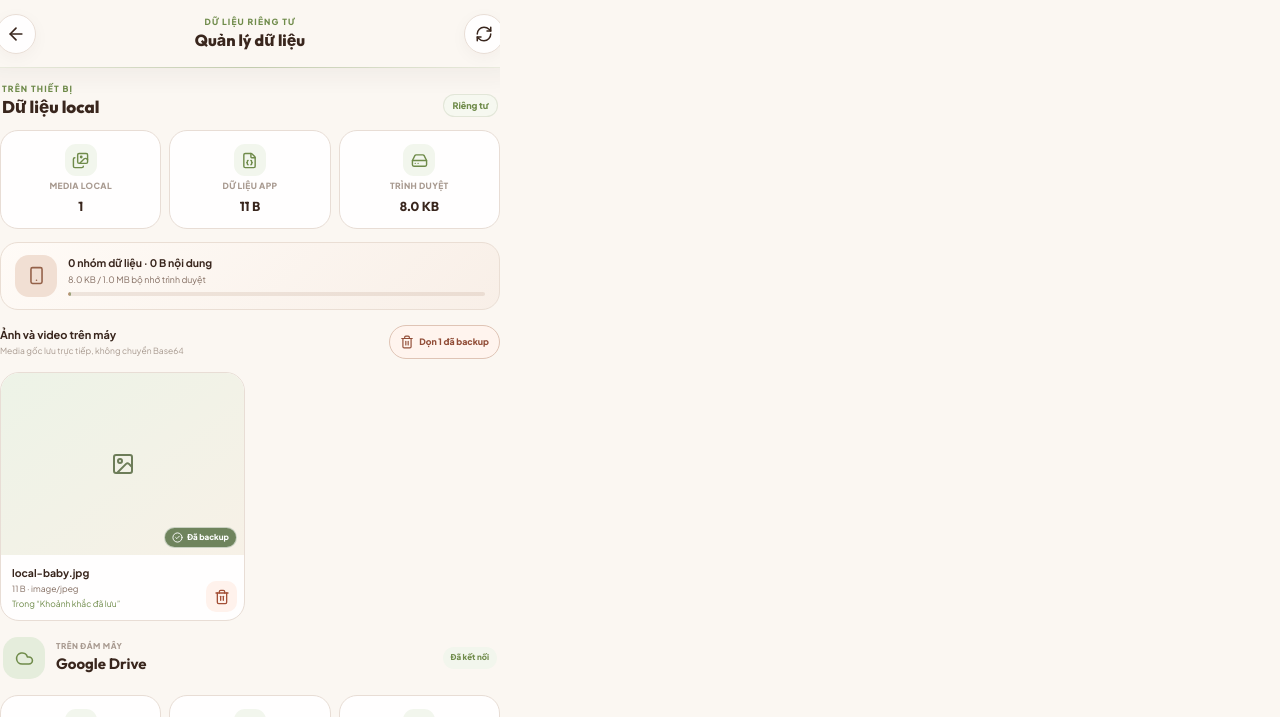
it: GoogleDriveDataView › shows local media and deletes only the device copy when it is backed up
Expected: the text "local-baby.jpg" is shown, [12, 566, 89, 579]
Expected: the text "Đã backup" is shown, [164, 527, 237, 548]
Click the button named "Xóa bản local local-baby.jpg" at (222, 596), box [206, 581, 237, 612]
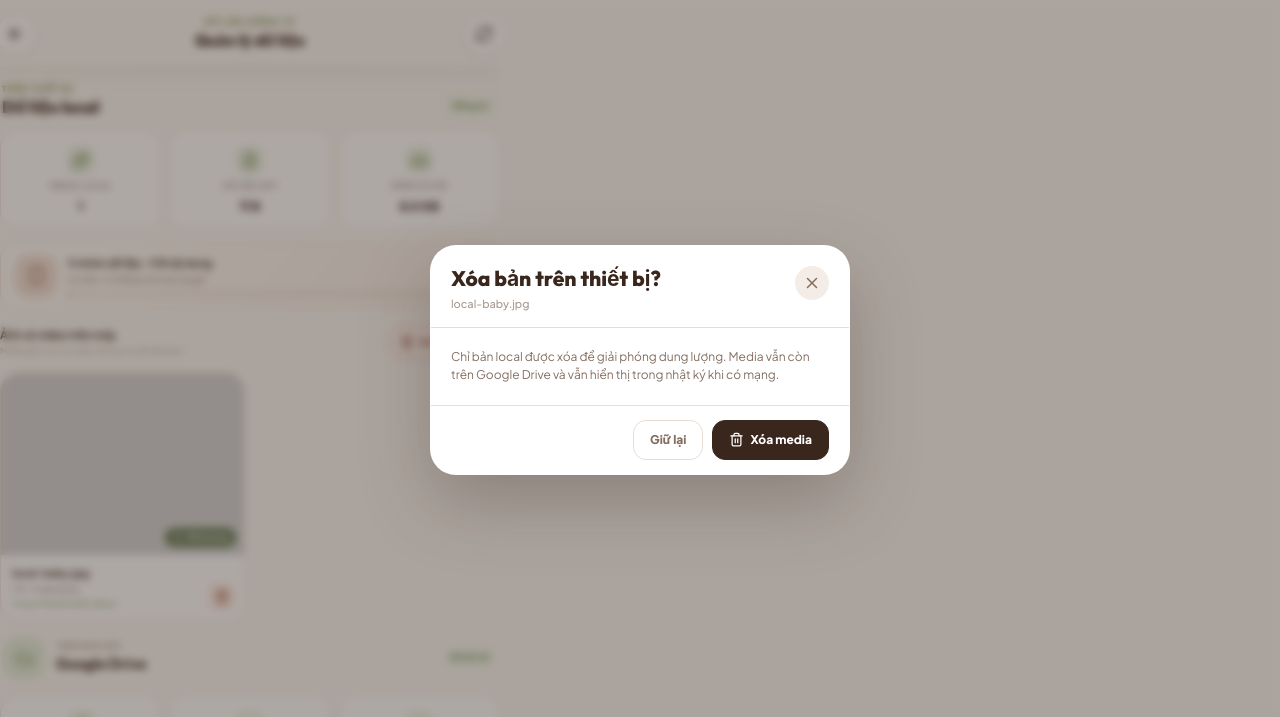
Expected: the dialog "Xóa bản trên thiết bị?" is shown, [430, 245, 850, 475]
Click the button "Xóa media" at (771, 440), box [712, 420, 829, 460]
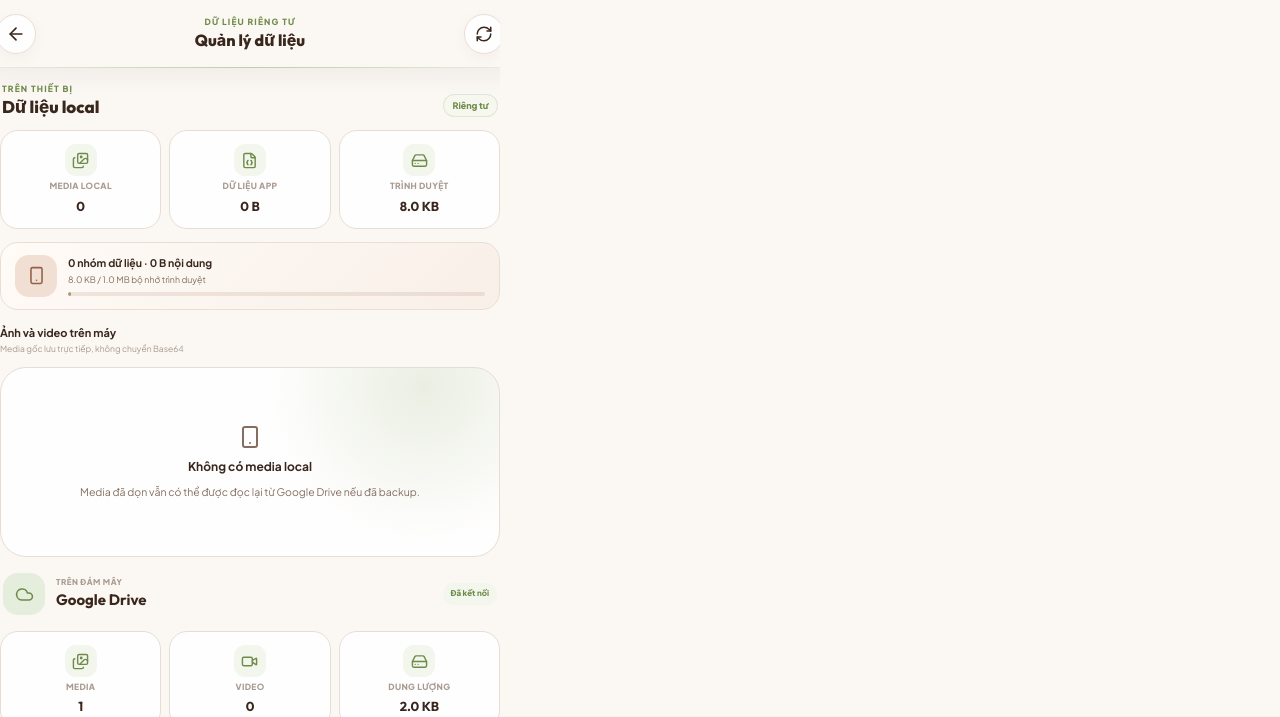
Expected: the text "local-baby.jpg" is gone
